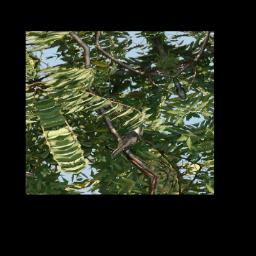Cuckoo: (99, 124, 153, 161)
